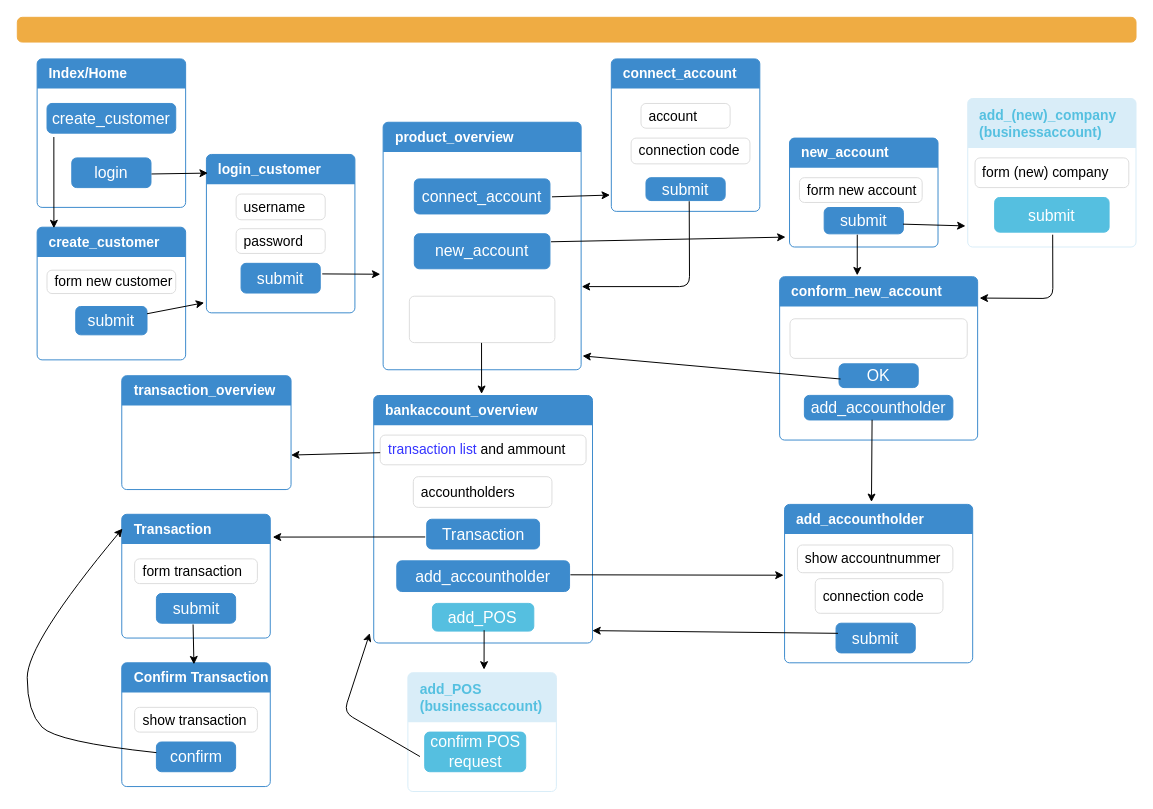
Some shapes in this 1153 by 809 pixel diagram are drawn without their labels. Each missing label, with the centre of its shape:
"bankaccounts list and balance" belongs at point (481, 319).
"Customer Navigation Diagram" belongs at point (576, 29).
"EXTRA: show more then first 10 transactions" belongs at point (206, 432).
"show new accountnumber" belongs at point (878, 338).
